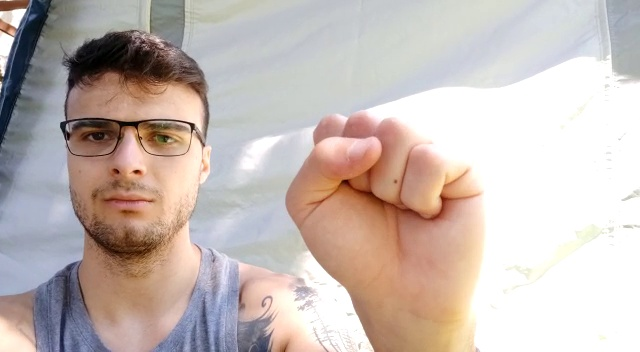Fist: (283, 110, 488, 321)
